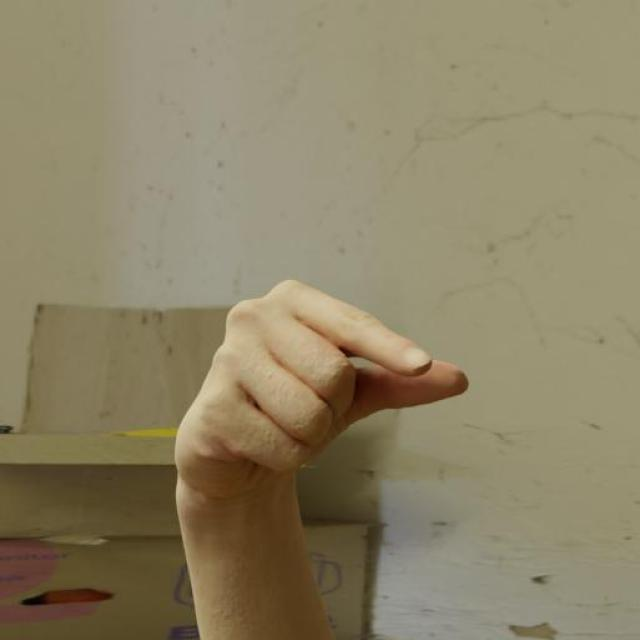G: (167, 273, 475, 507)
